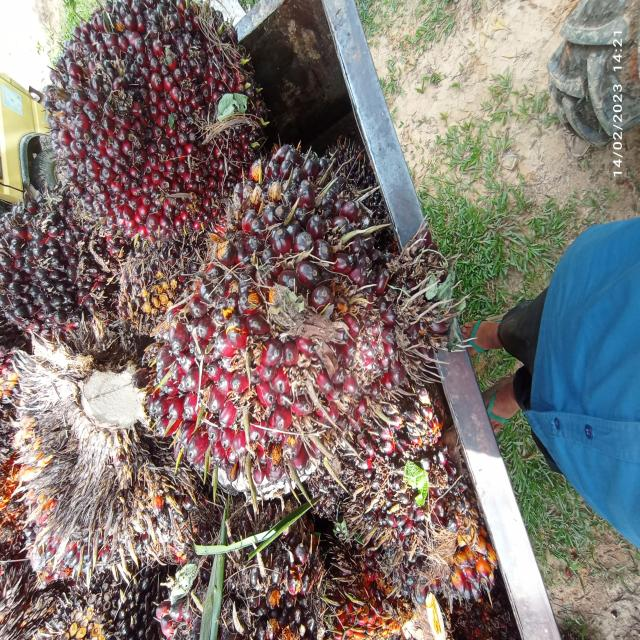fraksi 1: (130, 145, 443, 499), (18, 0, 264, 250), (0, 186, 116, 392)
